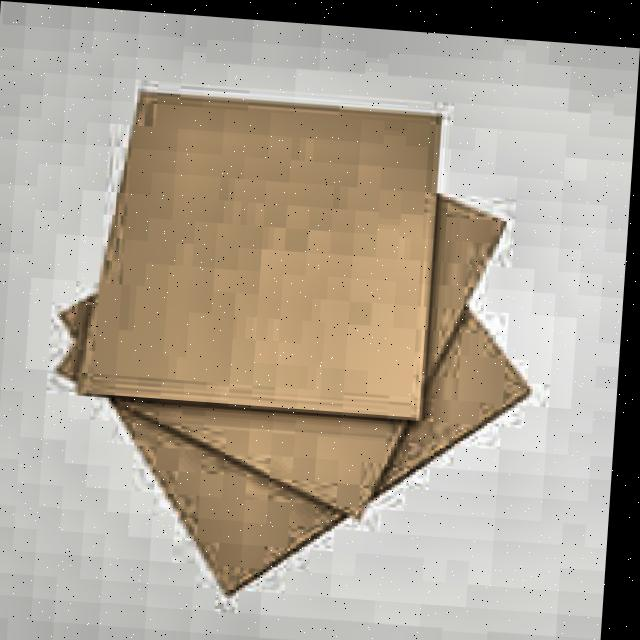cardboard: (31, 69, 543, 621)
